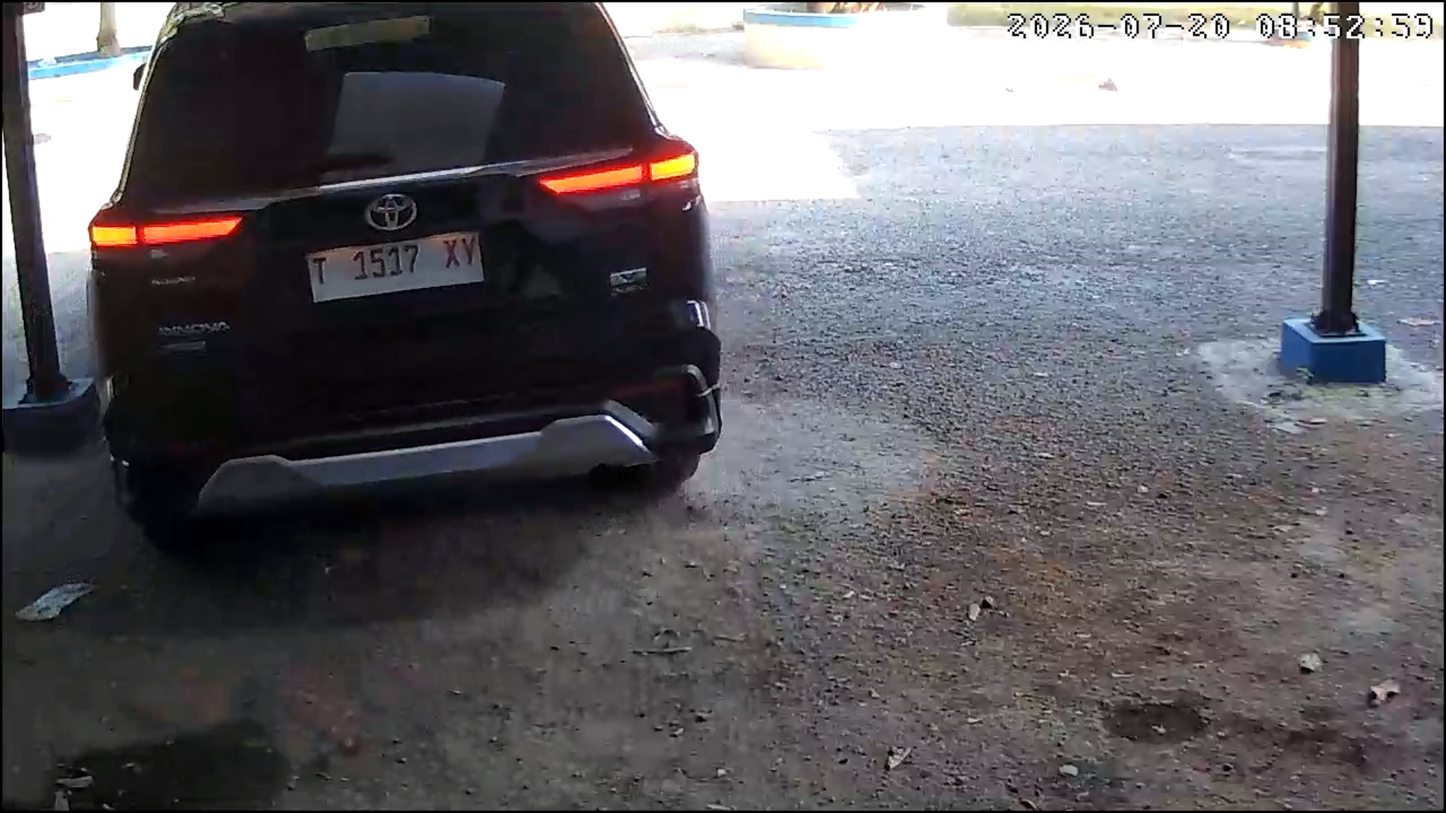plat nomor: (302, 227, 489, 313)
